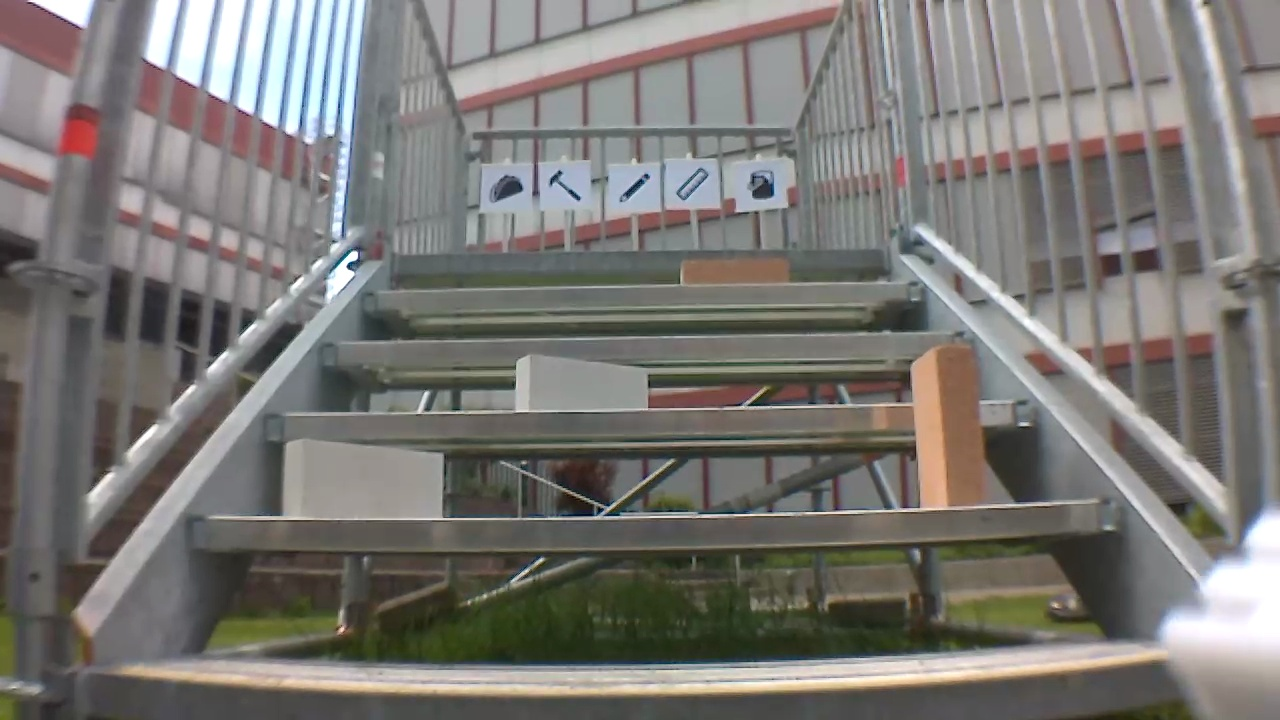brick: (284, 441, 441, 519), (911, 347, 986, 509), (514, 355, 646, 408), (682, 260, 788, 283)
bucket: (738, 166, 780, 203)
edge: (89, 656, 1182, 714), (192, 501, 1119, 549), (270, 399, 1036, 433), (320, 334, 990, 359), (358, 282, 931, 306), (385, 248, 886, 269)
hammer: (542, 168, 587, 206)
pencil: (615, 169, 656, 204)
ruler: (674, 164, 712, 202)
stairs: (35, 4, 1275, 720)
steps: (79, 244, 1209, 718)
taco: (480, 171, 527, 208)
